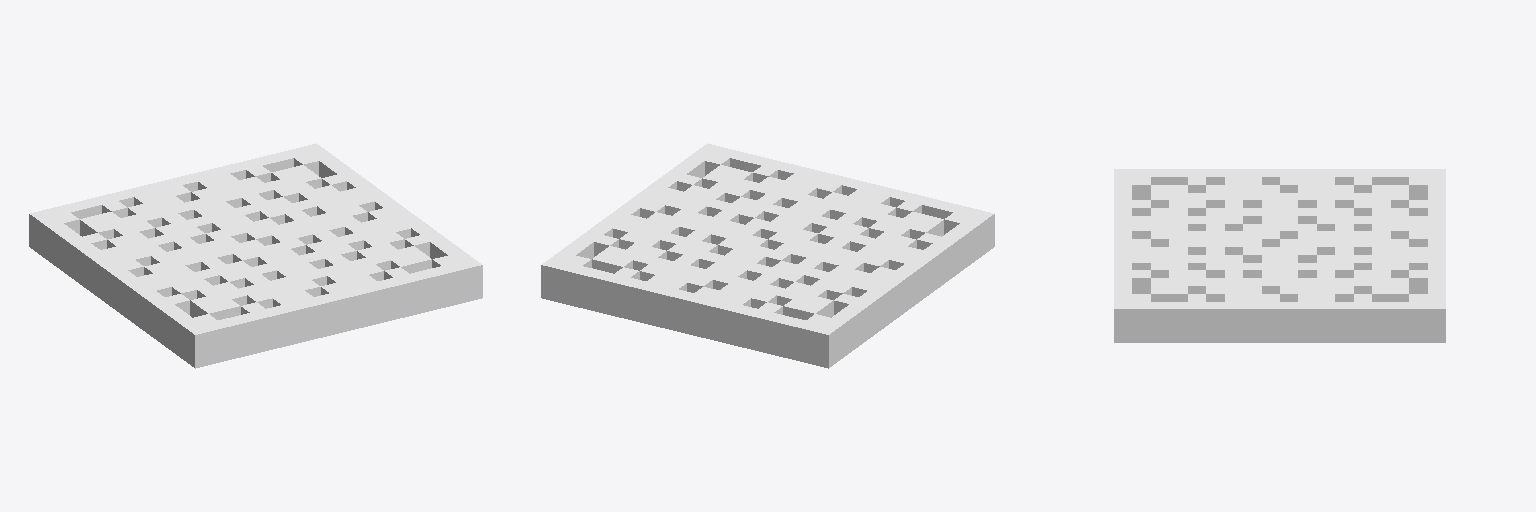
File: FloorTile2.obj
3 renders of one model, left to right at view 1: azimuth 30°, elevation 25°; view 2: azimuth 150°, elevation 25°; view 3: azimuth 270°, elevation 25°, orthographic.
Visible parts, largest first — view 1: object 1; view 2: object 1; view 3: object 1.
Part boxes in pixels (x1,y1,x2,y2): object 1: (29, 143, 482, 368); object 1: (541, 143, 994, 368); object 1: (1114, 169, 1445, 342).
Bounding box in the file's own units: 1.8 × 0.2 × 1.8.